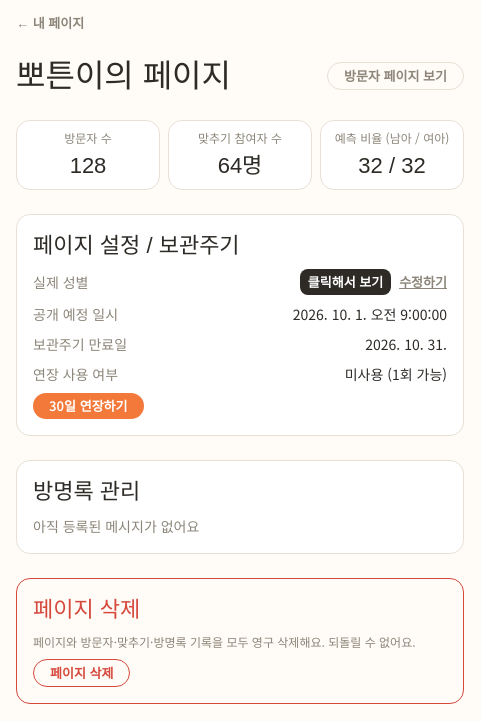
Test: OwnerPageDetailScreen › shows the header and stats, with the actual gender masked until clicked
The width and height of the screenshot is (481, 721).
Expected: the heading "뽀튼이의 페이지" is shown, [16,56,231,96]
Expected: the text "128" is shown, [70,153,106,178]
Click the button "클릭해서 보기": click(346, 282) [300,269,391,295]
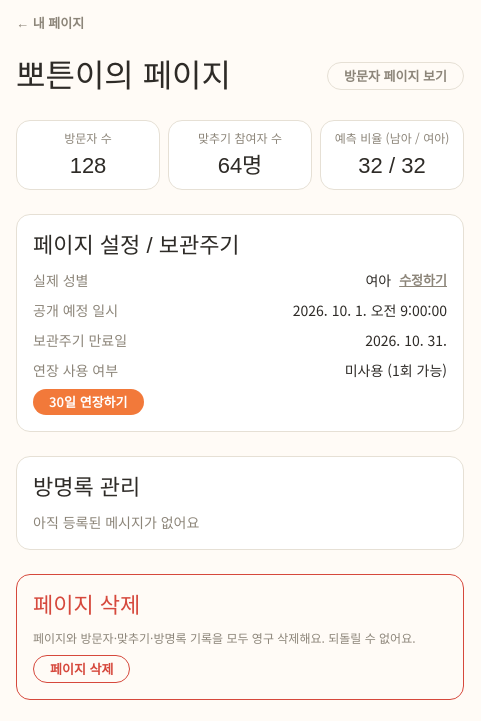
Now the text "여아" is shown, box [365,270,391,290]
